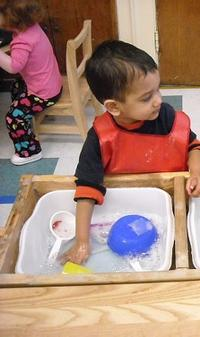person: (57, 39, 200, 266)
